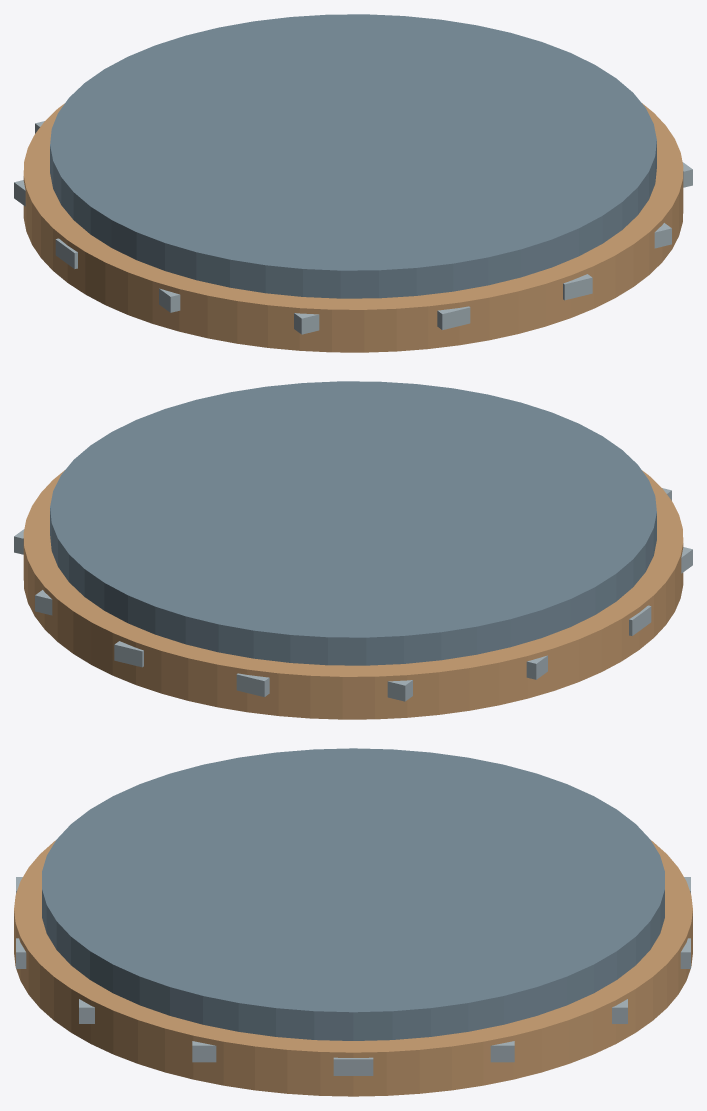
File: 07_L76_PrecisionWaferCathodeChuck.glb
The picture shows the model from 3 angles, top to bottom: view 1: azimuth 30°, elevation 25°; view 2: azimuth 150°, elevation 25°; view 3: azimuth 270°, elevation 25°; orthographic projection. The views are drawn at different scales.
Parts seen in each view (by area): view 1: PrecisionWaferCathodeChuck_Node_0000, PrecisionWaferCathodeChuck_Node_0001, PrecisionWaferCathodeChuck_Node_0006, PrecisionWaferCathodeChuck_Node_0005; view 2: PrecisionWaferCathodeChuck_Node_0000, PrecisionWaferCathodeChuck_Node_0001, PrecisionWaferCathodeChuck_Node_0012, PrecisionWaferCathodeChuck_Node_0013; view 3: PrecisionWaferCathodeChuck_Node_0000, PrecisionWaferCathodeChuck_Node_0001, PrecisionWaferCathodeChuck_Node_0002.
Boxes of the visible parts, <box> form: PrecisionWaferCathodeChuck_Node_0000: <box>50,14,656,298</box>; PrecisionWaferCathodeChuck_Node_0001: <box>23,103,683,352</box>; PrecisionWaferCathodeChuck_Node_0006: <box>437,306,470,329</box>; PrecisionWaferCathodeChuck_Node_0005: <box>563,274,592,300</box>; PrecisionWaferCathodeChuck_Node_0000: <box>50,381,656,665</box>; PrecisionWaferCathodeChuck_Node_0001: <box>23,470,683,719</box>; PrecisionWaferCathodeChuck_Node_0012: <box>236,673,269,696</box>; PrecisionWaferCathodeChuck_Node_0013: <box>114,641,143,667</box>; PrecisionWaferCathodeChuck_Node_0000: <box>42,748,664,1040</box>; PrecisionWaferCathodeChuck_Node_0001: <box>14,840,692,1096</box>; PrecisionWaferCathodeChuck_Node_0002: <box>333,1057,373,1075</box>.
Bounding box in the file's own units: 2.26 × 0.265 × 2.24.
